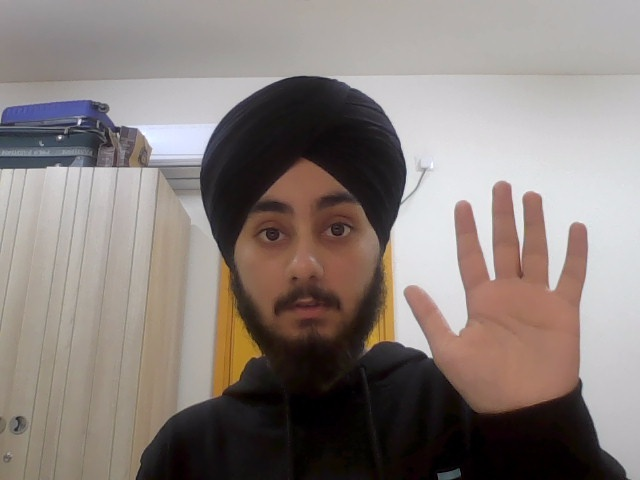Hello: (402, 170, 609, 411)
